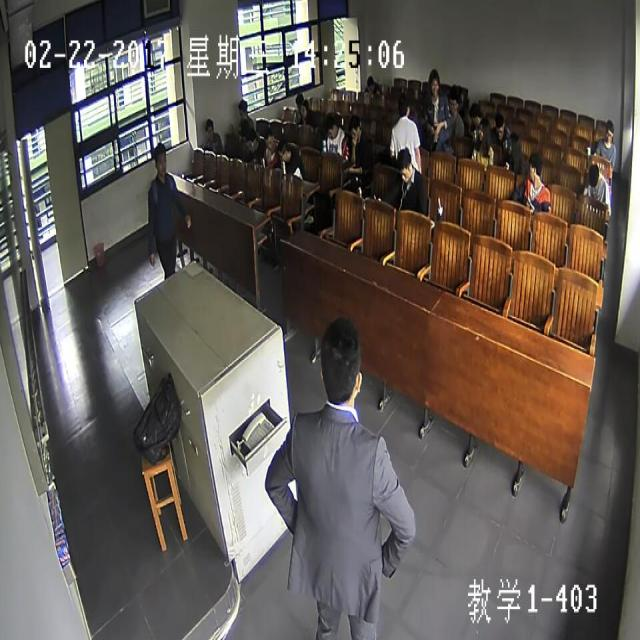person: (320, 314, 368, 414), (396, 145, 411, 185), (153, 142, 168, 180), (427, 64, 439, 99), (242, 126, 258, 152), (445, 84, 458, 115), (396, 92, 413, 115), (586, 160, 600, 187), (526, 152, 541, 176), (324, 112, 338, 137), (469, 99, 481, 127), (492, 111, 504, 136), (347, 118, 361, 139), (280, 138, 290, 160), (264, 128, 273, 152), (294, 89, 304, 110), (604, 117, 612, 142), (202, 117, 212, 136), (298, 100, 308, 117), (238, 97, 248, 112), (366, 73, 374, 88)
